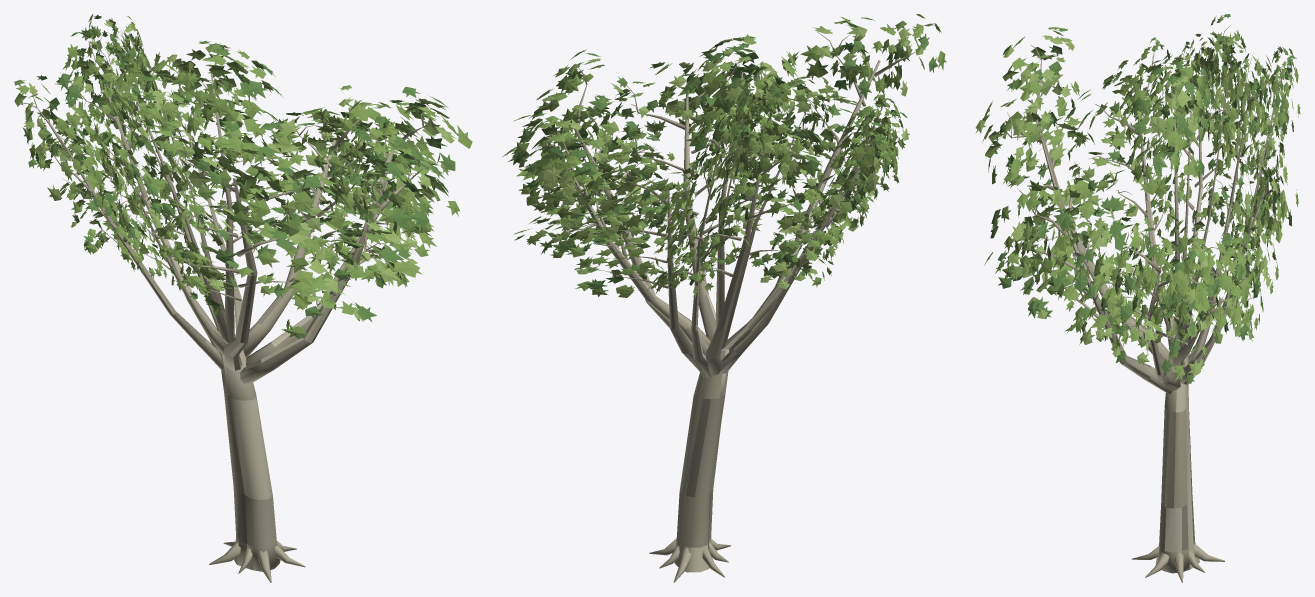
3 renders of one model, left to right at view 1: azimuth 30°, elevation 25°; view 2: azimuth 150°, elevation 25°; view 3: azimuth 270°, elevation 25°, orthographic. The views are drawn at different scales.
Visible parts, largest first — view 1: tree_plane_b_PlaneLeaf, tree_plane_b_PlaneBark, tree_plane_b_PlaneLeafDark, tree_plane_b_PlaneLeafLight, tree_plane_b_PlaneBarkPale, tree_plane_b_PlaneBarkBrown; view 2: tree_plane_b_PlaneLeaf, tree_plane_b_PlaneBark, tree_plane_b_PlaneLeafLight, tree_plane_b_PlaneLeafDark, tree_plane_b_PlaneBarkPale, tree_plane_b_PlaneBarkBrown; view 3: tree_plane_b_PlaneLeaf, tree_plane_b_PlaneLeafDark, tree_plane_b_PlaneLeafLight, tree_plane_b_PlaneBark, tree_plane_b_PlaneBarkPale, tree_plane_b_PlaneBarkBrown.
Boxes of the visible parts, x1,y1,x2,y2 form: tree_plane_b_PlaneLeaf: [14, 16, 472, 338]; tree_plane_b_PlaneBark: [18, 31, 431, 582]; tree_plane_b_PlaneLeafDark: [14, 14, 455, 321]; tree_plane_b_PlaneLeafLight: [27, 14, 456, 322]; tree_plane_b_PlaneBarkPale: [61, 99, 393, 569]; tree_plane_b_PlaneBarkBrown: [110, 98, 298, 543]; tree_plane_b_PlaneLeaf: [502, 14, 946, 297]; tree_plane_b_PlaneBark: [535, 32, 926, 582]; tree_plane_b_PlaneLeafLight: [513, 23, 934, 297]; tree_plane_b_PlaneLeafDark: [515, 17, 941, 289]; tree_plane_b_PlaneBarkPale: [574, 128, 869, 572]; tree_plane_b_PlaneBarkBrown: [574, 60, 878, 543]; tree_plane_b_PlaneLeaf: [975, 15, 1300, 373]; tree_plane_b_PlaneLeafDark: [982, 14, 1296, 383]; tree_plane_b_PlaneLeafLight: [984, 16, 1298, 381]; tree_plane_b_PlaneBark: [999, 25, 1293, 582]; tree_plane_b_PlaneBarkPale: [1031, 100, 1231, 569]; tree_plane_b_PlaneBarkBrown: [1031, 91, 1277, 551].
Size of the model in its own units: 12.93 by 16.8 by 10.1.
